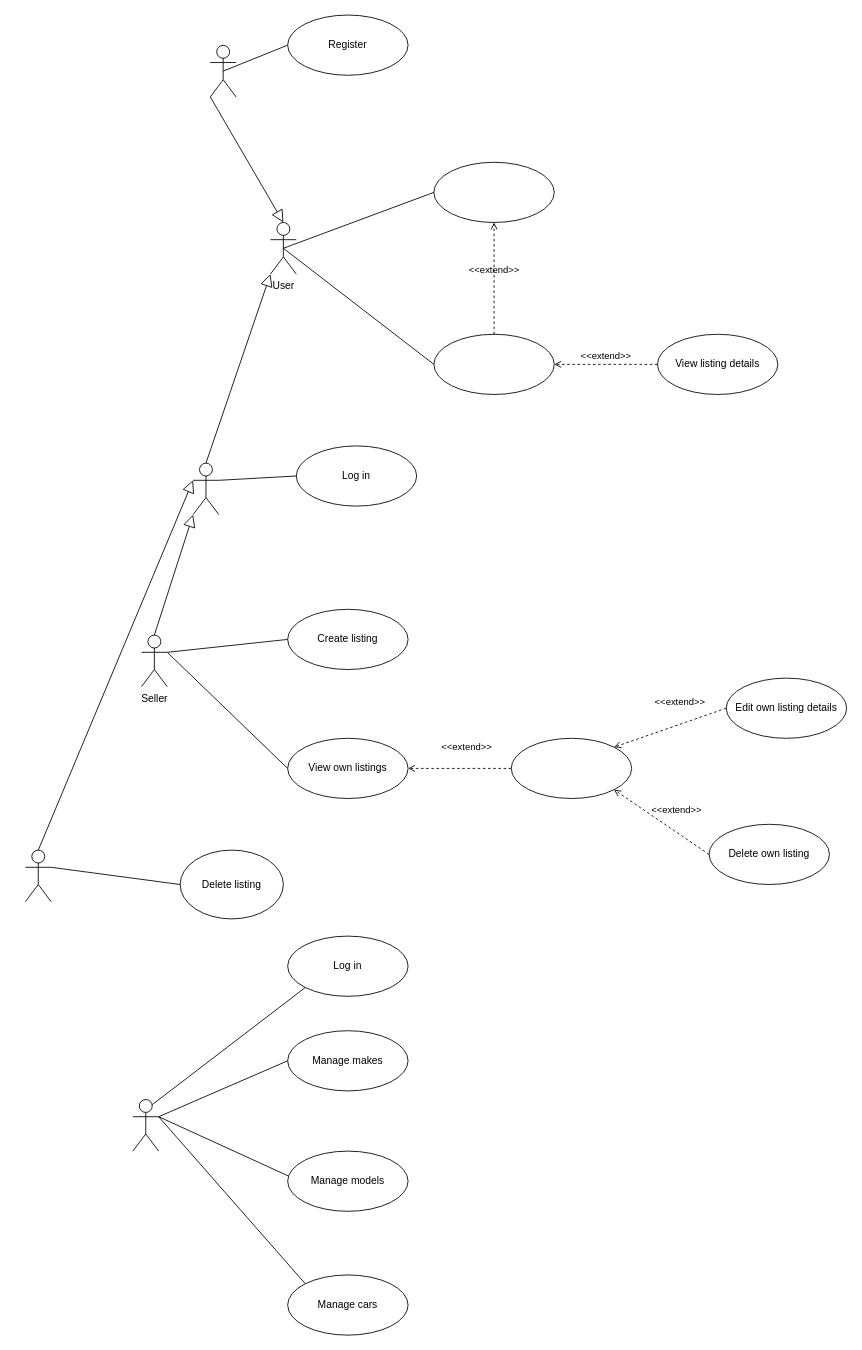
Some shapes in this 862 by 1350 pixel diagram are drawn without their labels. Each missing label, with the centre of its shape:
Admin: pixel 145 1125
Browse listings: pixel 493 363
Client: pixel 205 488
Guest: pixel 222 70
Moderator: pixel 38 875
Search listings: pixel 493 191
View own listing details: pixel 571 768
